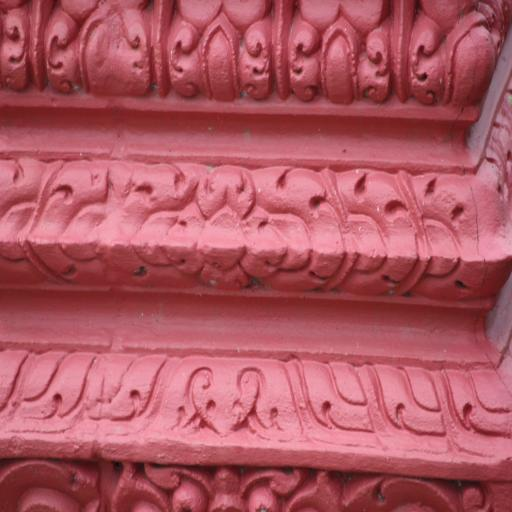hoa: (172, 167, 278, 293)
la: (280, 168, 492, 302), (5, 166, 177, 279), (395, 0, 511, 107), (283, 0, 394, 103), (166, 357, 298, 440), (46, 0, 159, 92), (170, 0, 275, 90), (288, 353, 378, 450), (374, 353, 446, 454), (444, 361, 512, 466), (0, 356, 94, 429), (78, 354, 168, 428)
